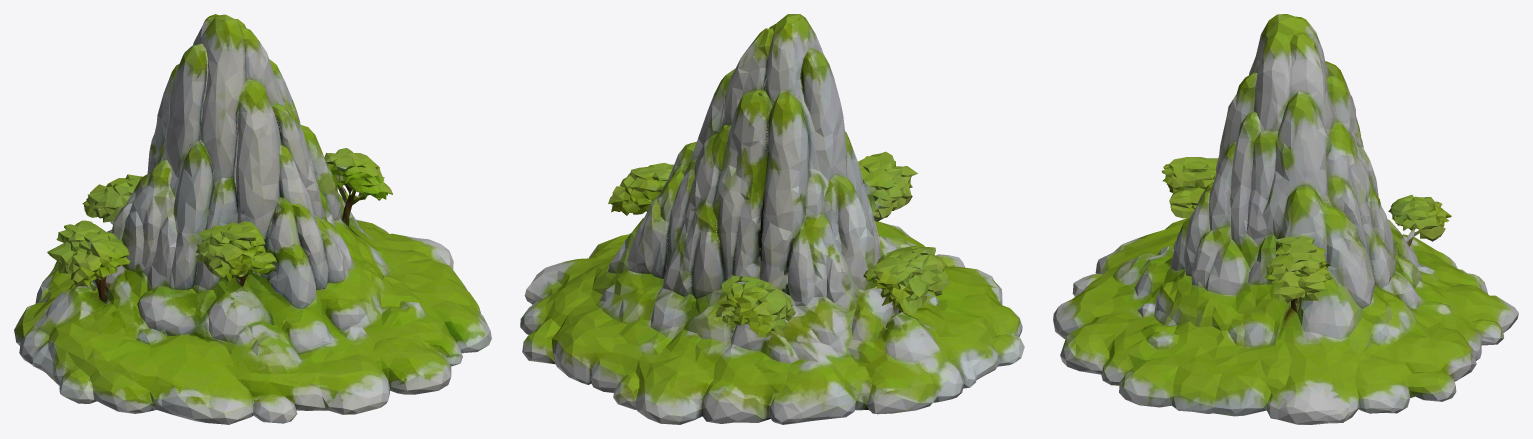
Rendered from mountain_terrain.glb.
The picture shows the model from 3 angles, left to right: view 1: azimuth 30°, elevation 25°; view 2: azimuth 150°, elevation 25°; view 3: azimuth 270°, elevation 25°; orthographic projection. The views are drawn at different scales.
Bounding box in the file's own units: 1.96 × 1.38 × 1.93.
1 material, 1 textured.
